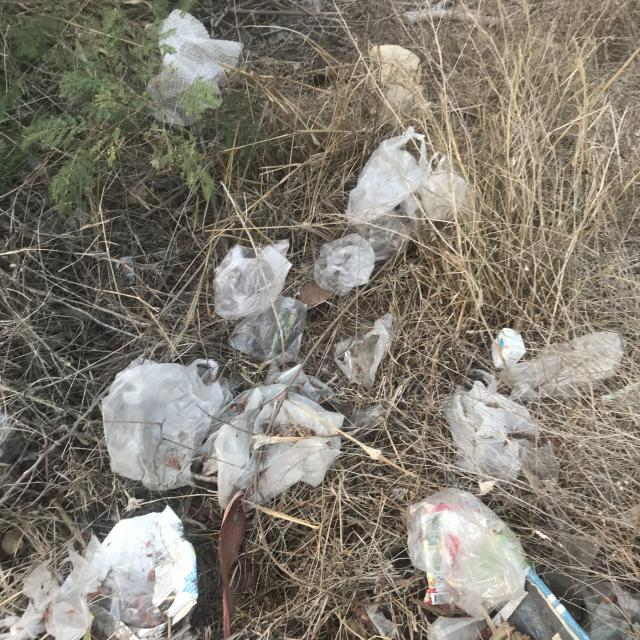Single-layer Plastic: (213, 373, 359, 517), (90, 348, 239, 482), (382, 481, 528, 608), (72, 504, 198, 640), (446, 373, 533, 506), (336, 130, 440, 234), (146, 10, 234, 127), (506, 329, 636, 407), (23, 540, 101, 640), (196, 246, 296, 319), (226, 296, 300, 363), (345, 323, 400, 403), (316, 235, 380, 293)
